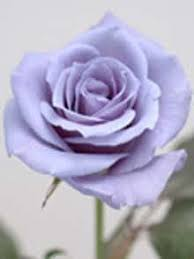rose: (9, 38, 192, 197)
